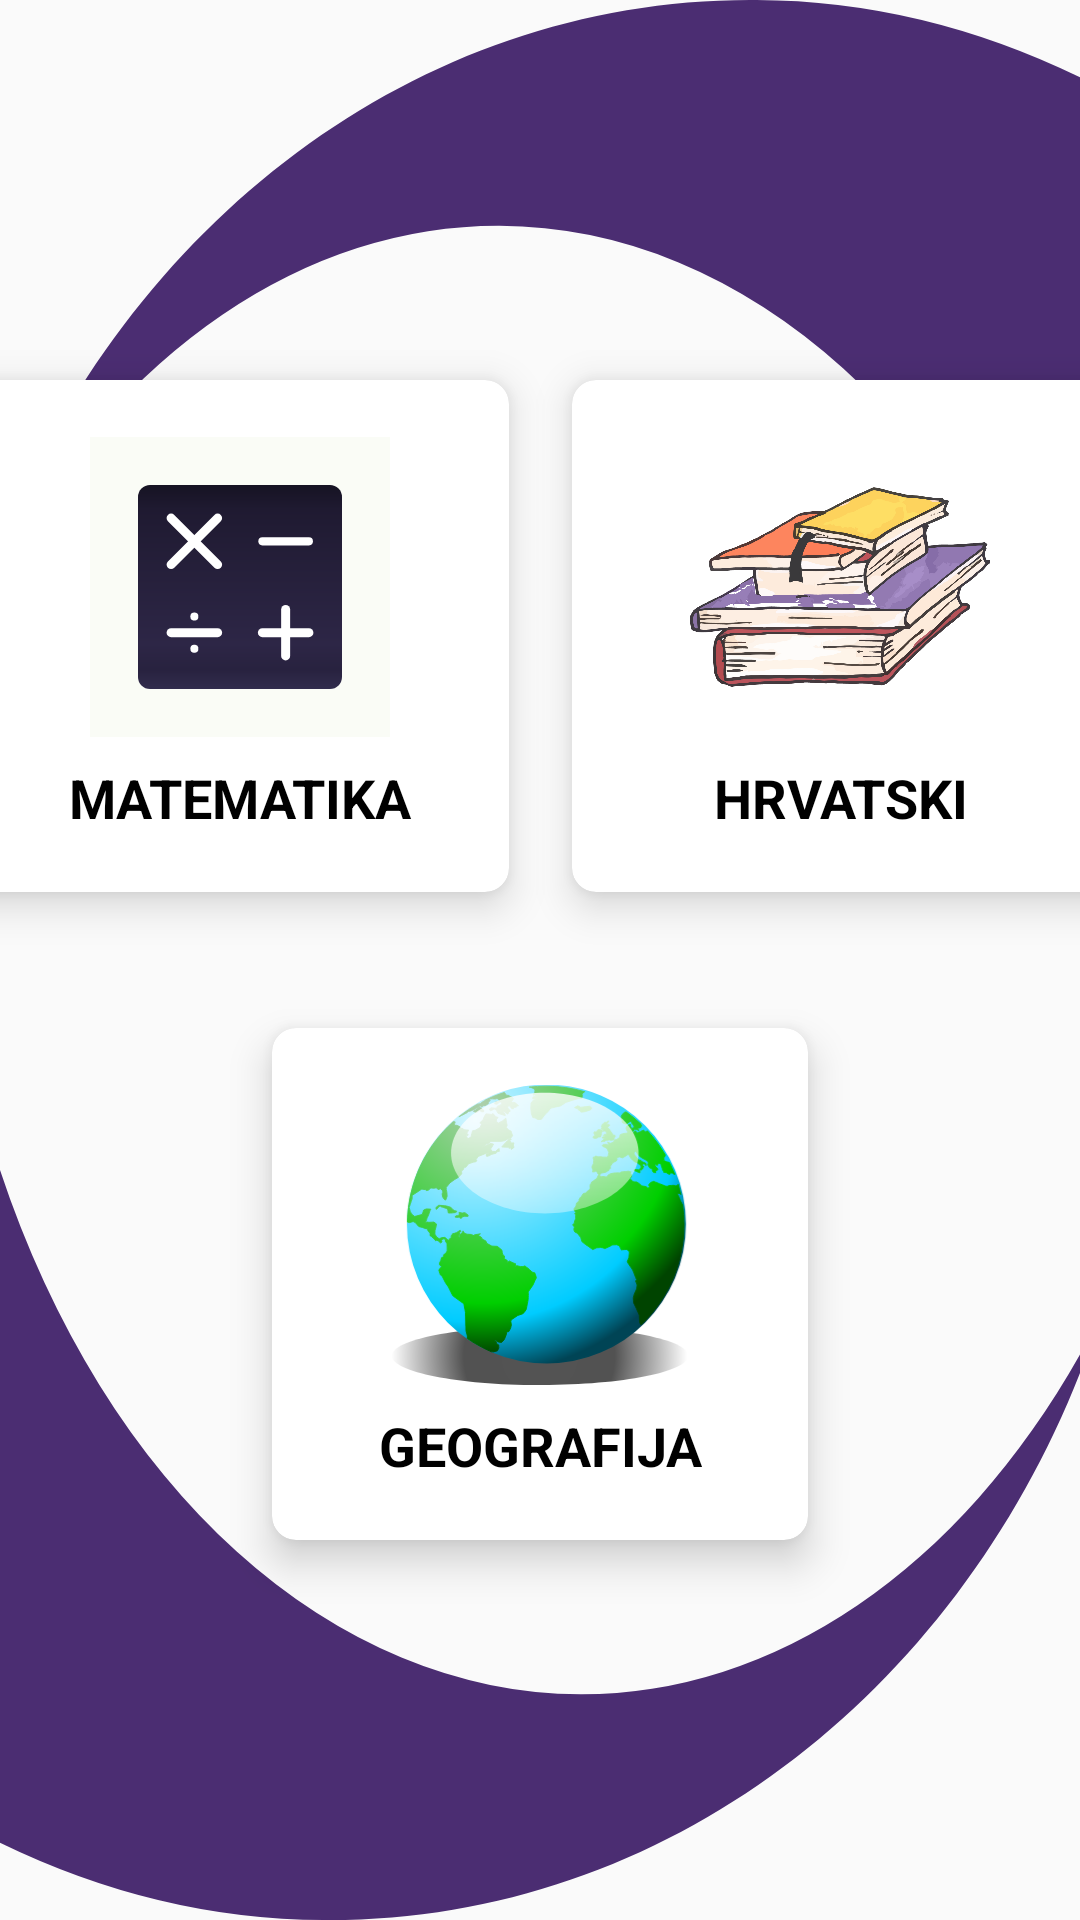

Named icons in this screenshot (1080×1920) and their centers, (x,y):
math: (240,587)
